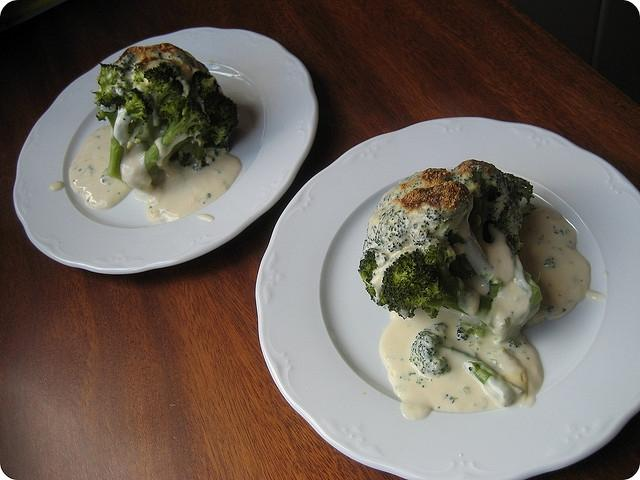broccoli: (91, 42, 240, 193), (357, 237, 488, 343), (410, 331, 450, 376)
